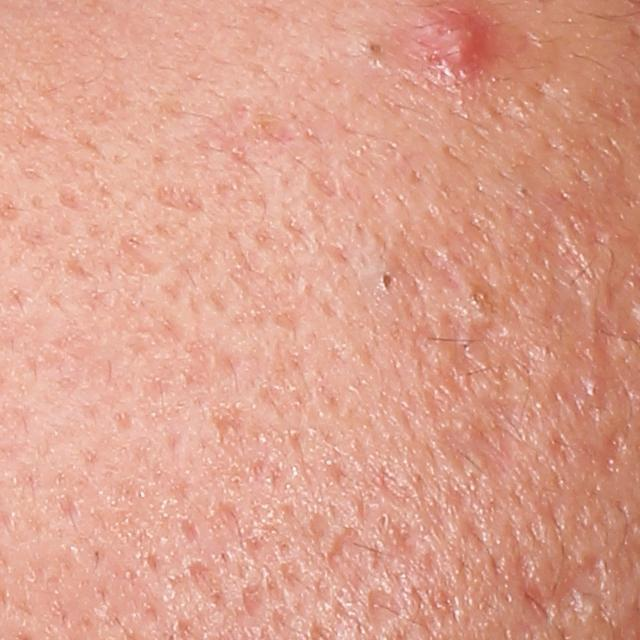atrophic_scar: (422, 308, 492, 422), (192, 94, 295, 171), (514, 554, 611, 629), (534, 219, 595, 338), (473, 315, 561, 385), (435, 418, 518, 486), (588, 334, 623, 412), (187, 560, 228, 612), (151, 182, 211, 215), (365, 588, 405, 630), (325, 525, 361, 570), (601, 432, 628, 479), (308, 165, 342, 198), (241, 580, 265, 622)
comedo: (355, 32, 388, 64), (376, 270, 401, 295)
